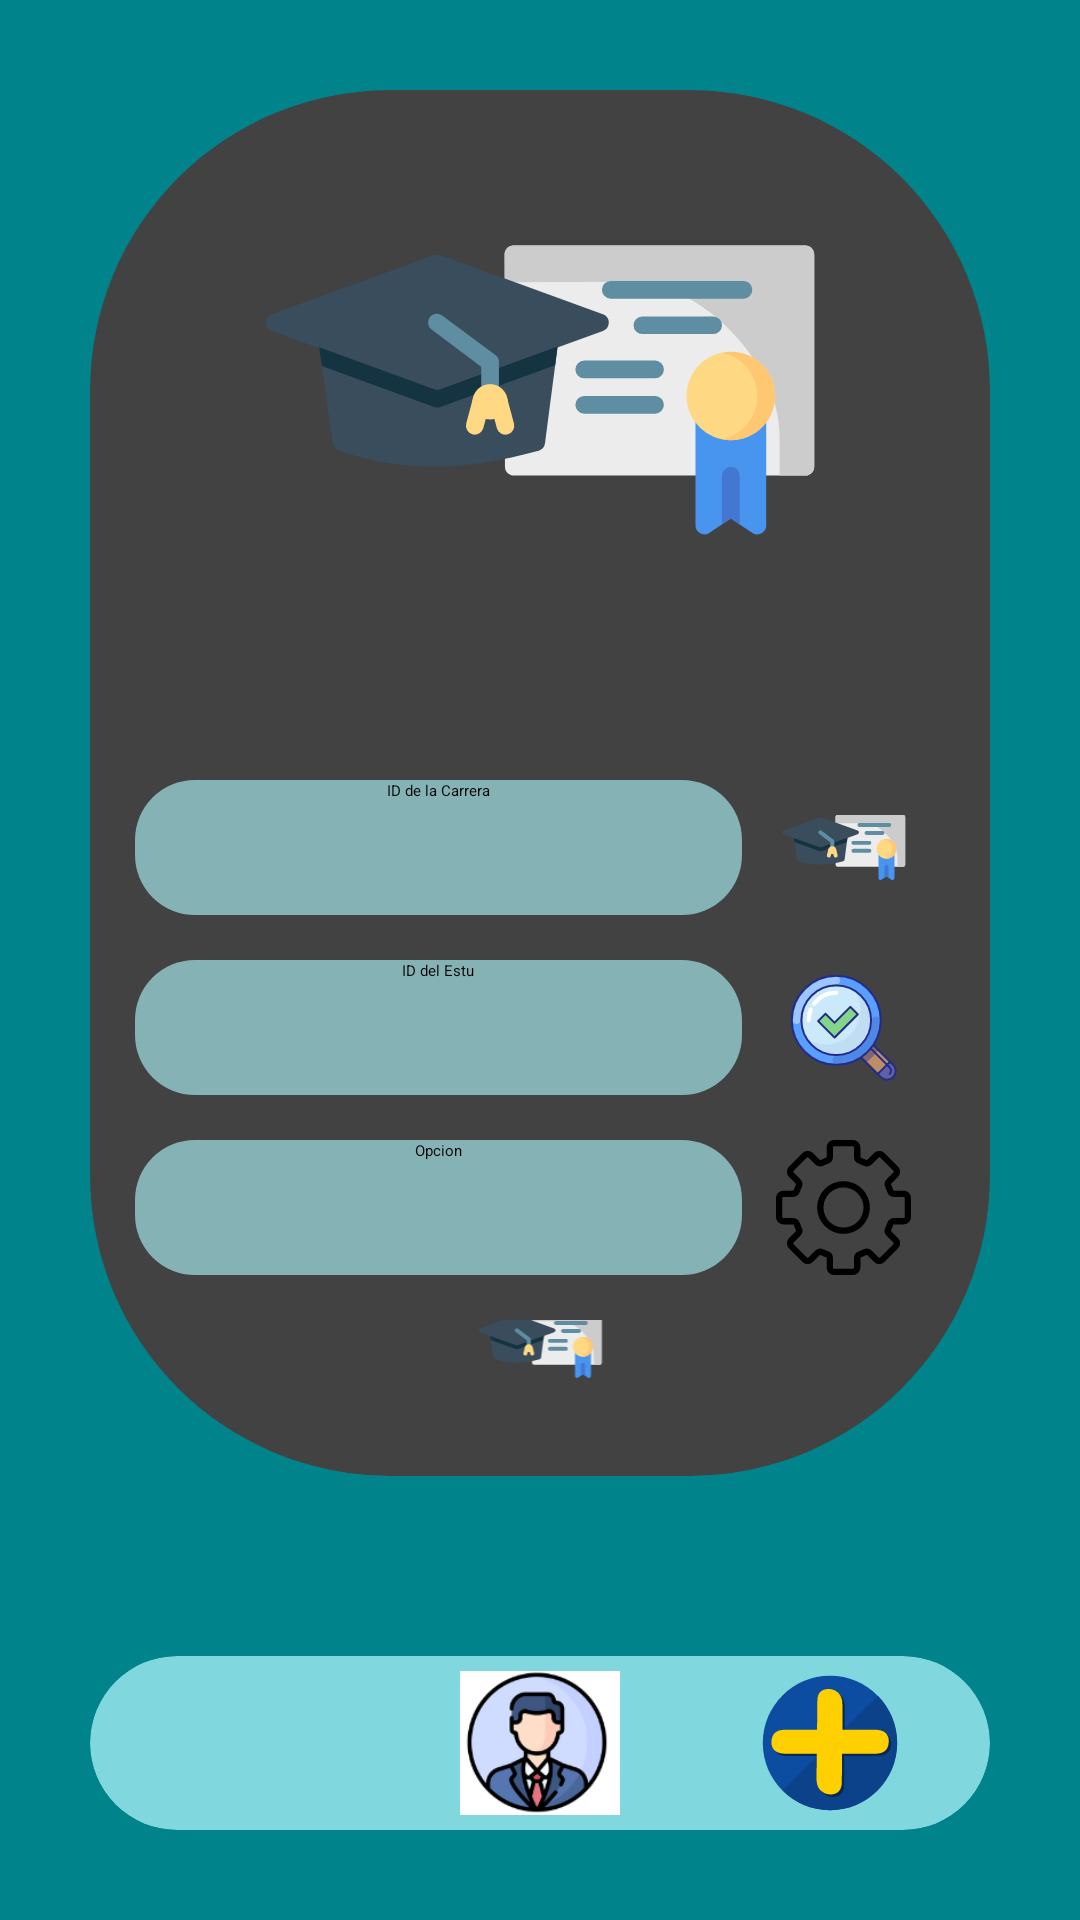

Screen size 1080×1920. Icon name, then its center in pixels as (x,y):
adulto: (540,1743)
conf: (843,1207)
lupa: (844,1028)
mas: (830,1743)
